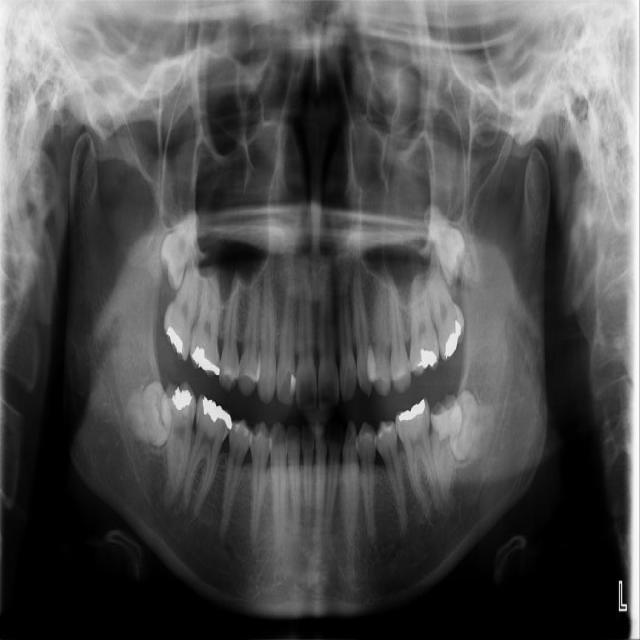3M ESPE Implant: (148, 204, 207, 292)
52: (150, 292, 209, 363), (179, 392, 243, 452), (387, 395, 445, 451), (157, 378, 202, 429), (187, 323, 224, 378), (434, 301, 466, 363), (408, 328, 439, 376), (235, 343, 262, 397), (216, 340, 244, 392), (228, 416, 253, 459), (374, 422, 399, 464), (276, 355, 296, 405), (355, 422, 377, 466)
73: (618, 588, 622, 596)
BioHorizons Implant: (418, 239, 472, 362)
BioLife Implant: (420, 197, 477, 287)
Biomet 3i Implant: (448, 390, 497, 462)
Blue Sky Bio Implant: (430, 393, 466, 506)
Caries: (157, 263, 203, 363)
Implant: (160, 381, 199, 507)
Keystone Dental Implant: (123, 380, 173, 447)
